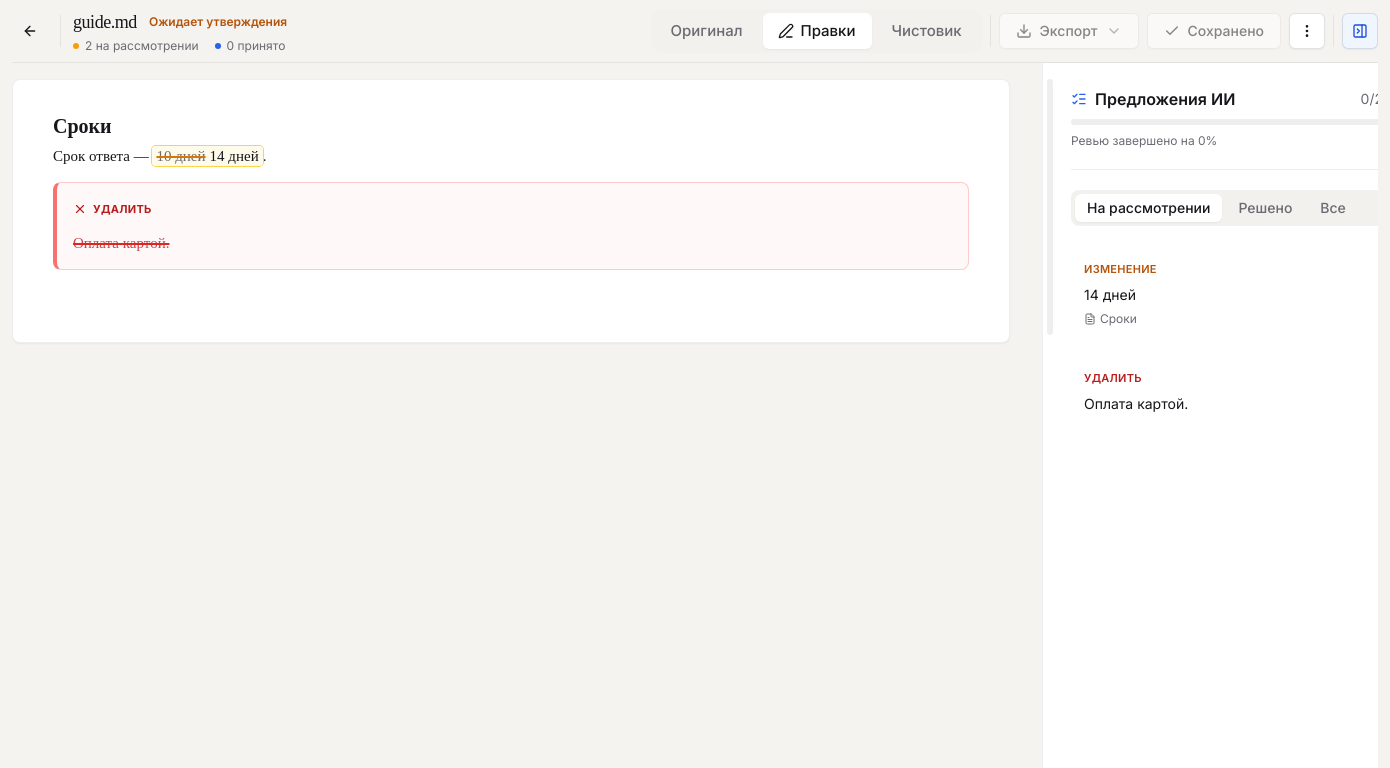
it: Редактор правок › показывает режимы просмотра: «Правки» по умолчанию, «Оригинал» и «Чистовик»
Expected: the button with aria-label "Изменение" reads "10 дней14 дней", [152,146,263,166]
Expected: the button "Удалить Оплата картой." below "Срок ответа —" is shown, [53,182,969,270]
What coordinates should you click on to do the following:
click the radio button labelled "Оригинал"
I would click on:
 (707, 31)
Its box is [655,13,758,49].
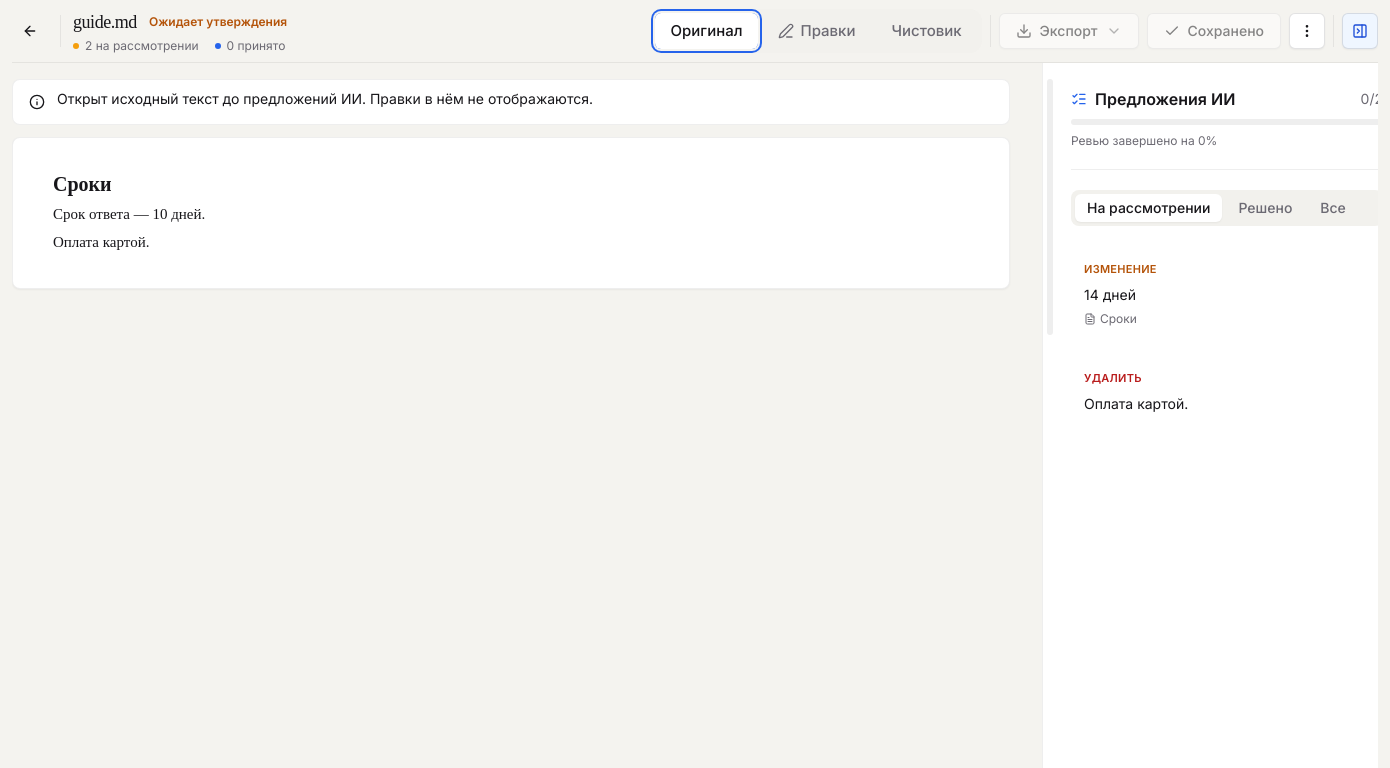
Expected: the element with test id "document-text" shows "Срок ответа — 10 дней.", [53,206,205,222]
Now the text "Открыт исходный текст до предложений ИИ. Правки в нём не отображаются." is shown, box [57,90,593,107]
Now the button "10 дней14 дней" is gone
// В «Чистовике» нерассмотренные правки размечены как в «Правках».
What coordinates should you click on to do the following:
click the radio button labelled "Чистовик"
I would click on:
 (927, 31)
Its box is [876,13,978,49].
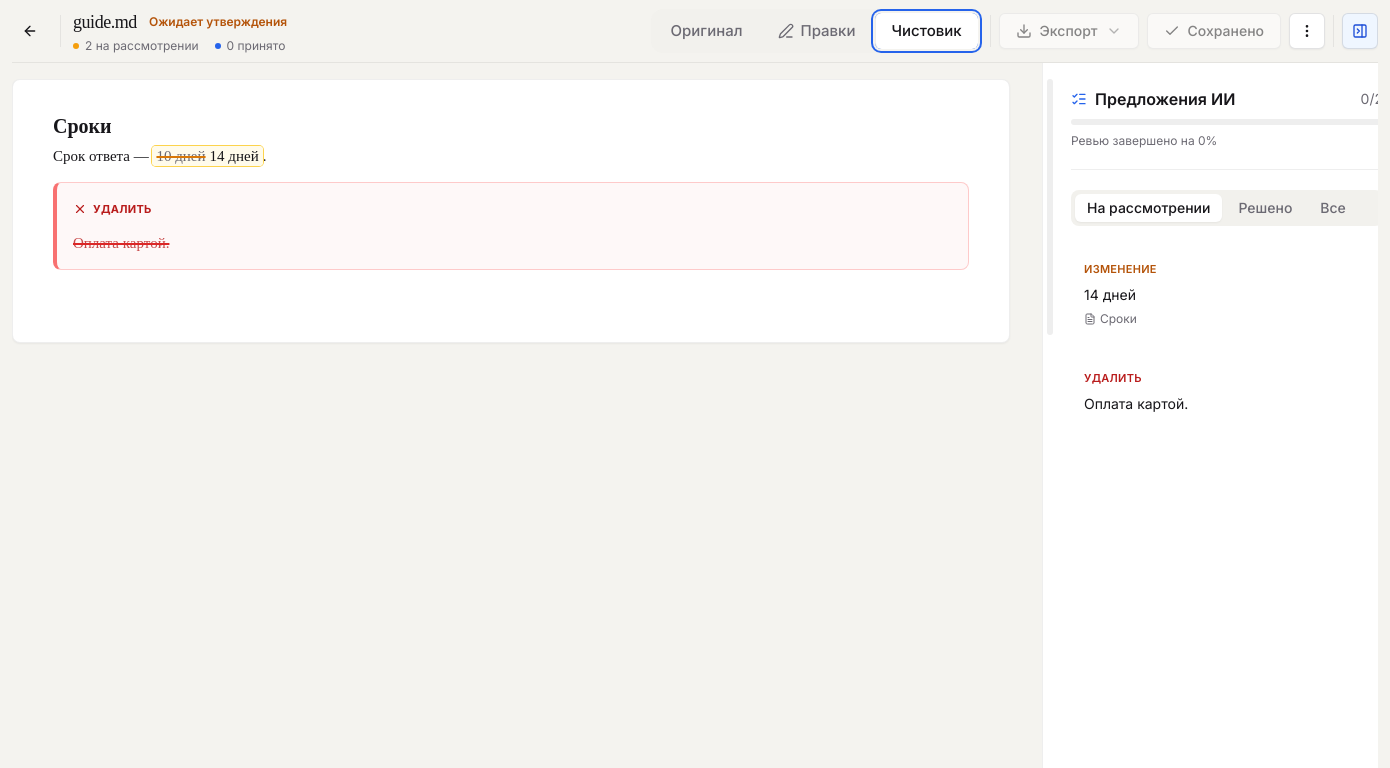
Now the button with aria-label "Изменение" is shown, box [152,146,263,166]
Now the button "Удалить Оплата картой." below "Срок ответа —" is shown, box [53,182,969,270]
